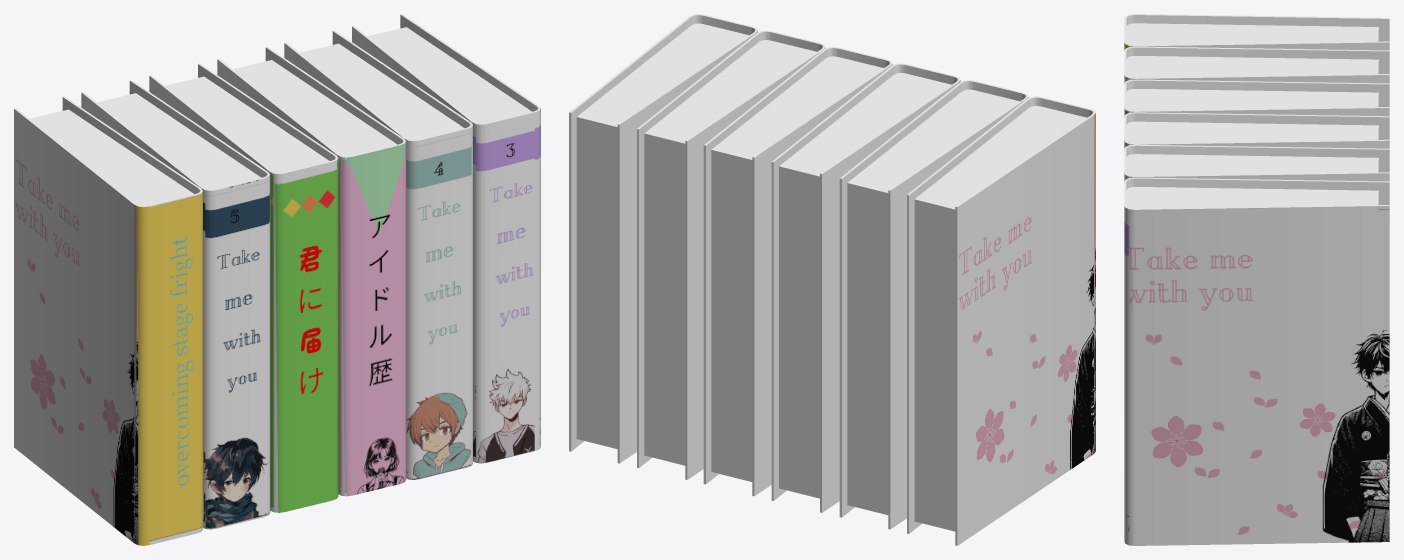
The model's file is books.fbx.
3 views of the same model, side by side, from view 1: azimuth 30°, elevation 25°; view 2: azimuth 150°, elevation 25°; view 3: azimuth 270°, elevation 25° (orthographic).
Parts seen in each view (by area): view 1: OfficeDeskSet02_8; view 2: OfficeDeskSet02_8; view 3: OfficeDeskSet02_8.
Boxes of the visible parts, left/top/right/bottom form: OfficeDeskSet02_8: left=14, top=14, right=540, bottom=545; OfficeDeskSet02_8: left=569, top=14, right=1095, bottom=545; OfficeDeskSet02_8: left=1124, top=14, right=1389, bottom=545.
Bounding box in the file's own units: 53.74 × 42.99 × 30.79.
